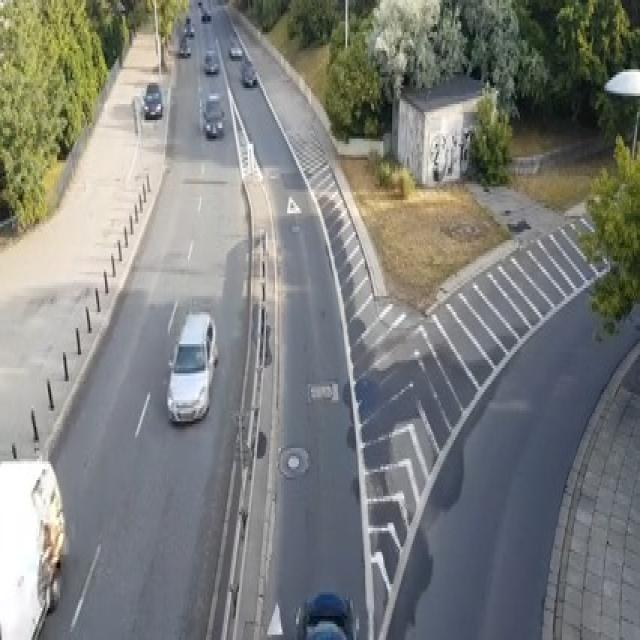bus: (0, 456, 65, 637)
car: (165, 309, 218, 424), (295, 590, 356, 638), (201, 91, 224, 136), (141, 83, 162, 117), (240, 54, 257, 86), (203, 48, 219, 72), (228, 32, 242, 59), (179, 37, 191, 56), (183, 19, 194, 37), (200, 8, 210, 21)
